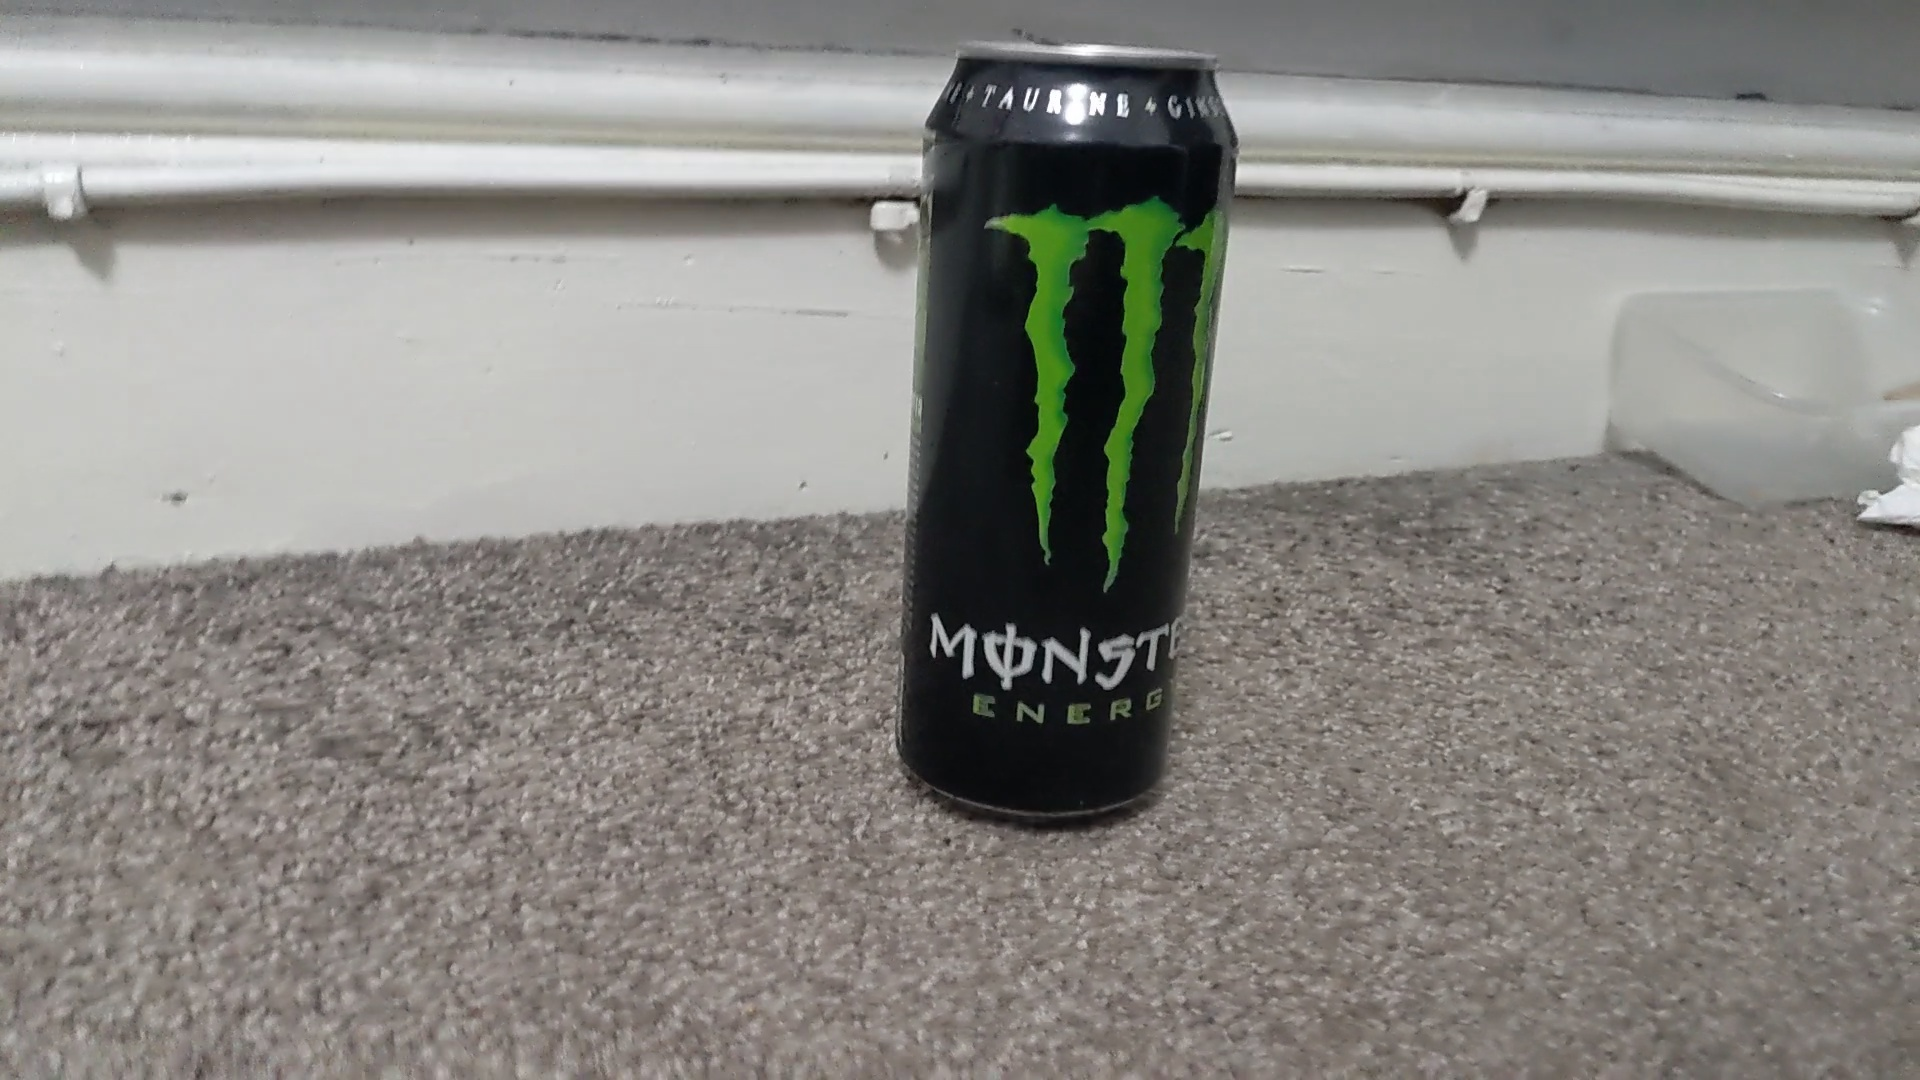monster-original: (884, 34, 1246, 836)
